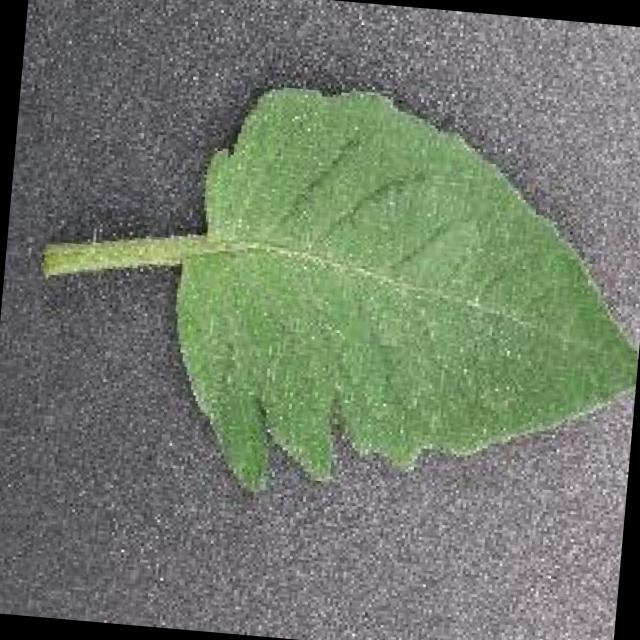healthy: (49, 87, 638, 493)
